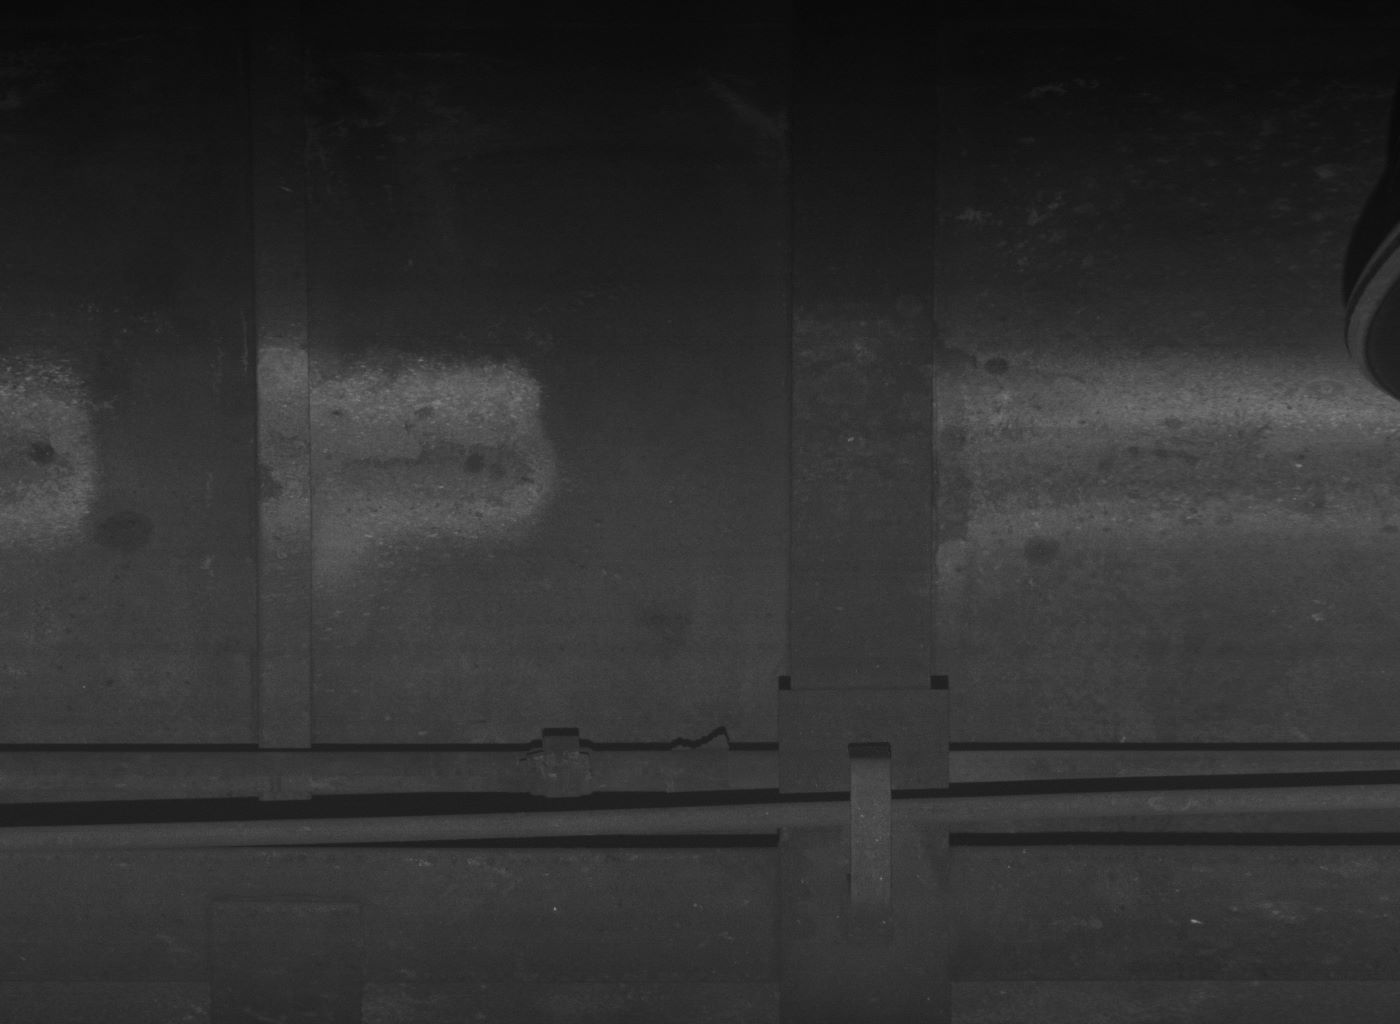normal: (845, 755, 891, 945)
